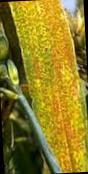Wheat: (24, 41, 79, 144)
